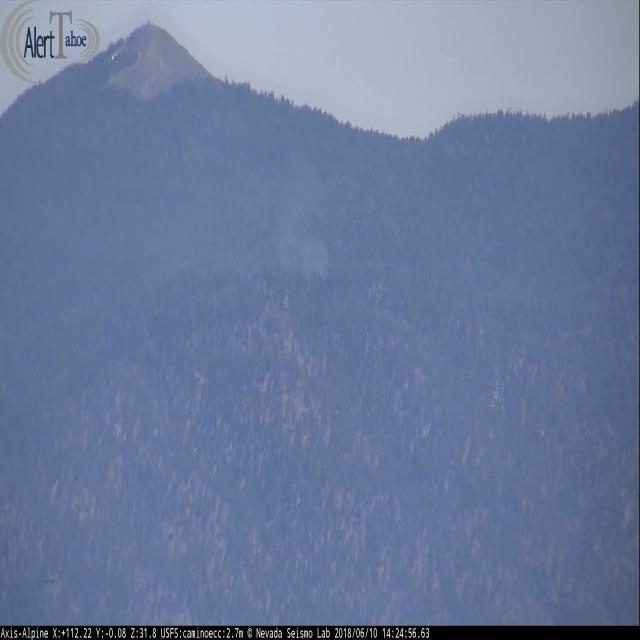smoke: (271, 142, 332, 274)
